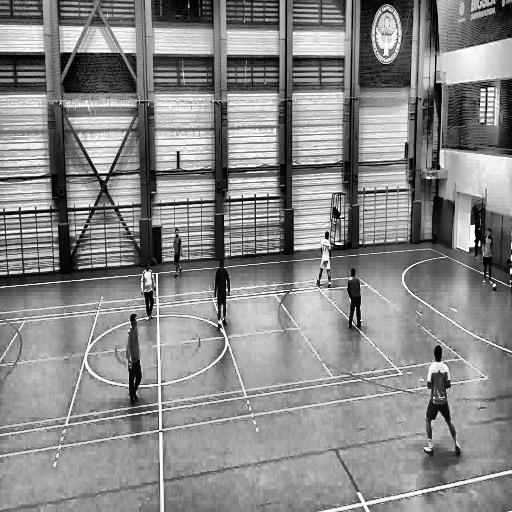ball: (491, 281, 500, 295)
player: (423, 343, 461, 459), (126, 314, 142, 408), (213, 257, 231, 333), (346, 267, 363, 332), (140, 260, 157, 324), (316, 230, 333, 292), (480, 227, 494, 286), (169, 226, 184, 280)
